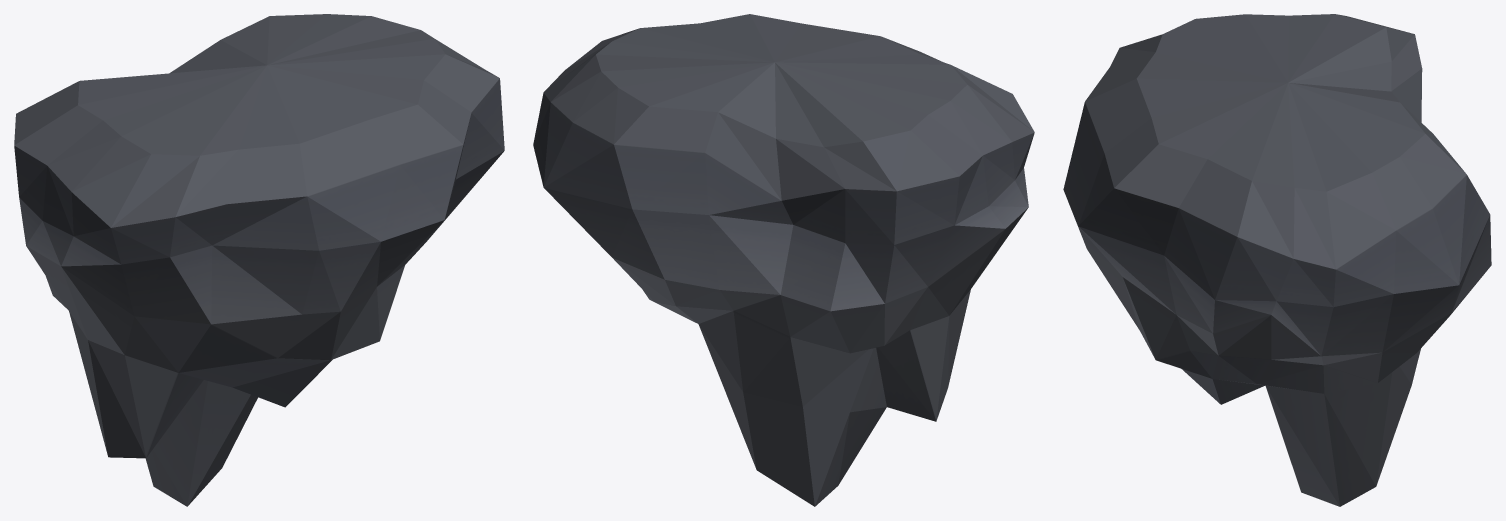
The model's file is Rock_005.FBX.
3 views of the same model, side by side, from view 1: azimuth 30°, elevation 25°; view 2: azimuth 150°, elevation 25°; view 3: azimuth 270°, elevation 25° (orthographic). The views are drawn at different scales.
Parts seen in each view (by area): view 1: Rock_005; view 2: Rock_005; view 3: Rock_005.
Boxes of the visible parts, <box> form: Rock_005: <box>14,14,504,506</box>; Rock_005: <box>533,14,1034,506</box>; Rock_005: <box>1063,14,1491,506</box>.
Bounding box in the file's own units: 3.18 × 2.79 × 2.42.
1 material, 1 textured.
